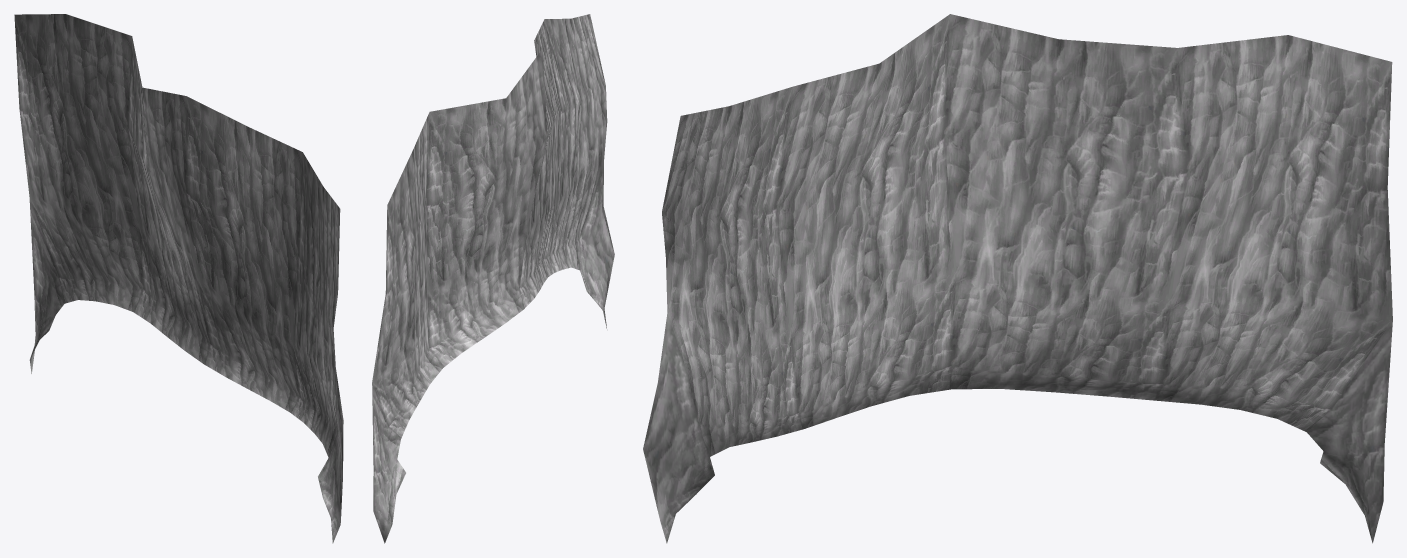
The model's file is SWORDLIGHT20_PS-AREA03_183.fbx.
The picture shows the model from 3 angles, left to right: view 1: azimuth 30°, elevation 25°; view 2: azimuth 150°, elevation 25°; view 3: azimuth 270°, elevation 25°; orthographic projection. The views are drawn at different scales.
Parts seen in each view (by area): view 1: SWORDLIGHT20_PS-AREA03_183; view 2: SWORDLIGHT20_PS-AREA03_183; view 3: SWORDLIGHT20_PS-AREA03_183.
Boxes of the visible parts, x1,y1,x2,y2 form: SWORDLIGHT20_PS-AREA03_183: (14, 14, 343, 543); SWORDLIGHT20_PS-AREA03_183: (372, 14, 614, 543); SWORDLIGHT20_PS-AREA03_183: (643, 14, 1392, 543).
Bounding box in the file's own units: 35512 × 205256 × 264605.
Materials: 2 (2 with a texture image).
